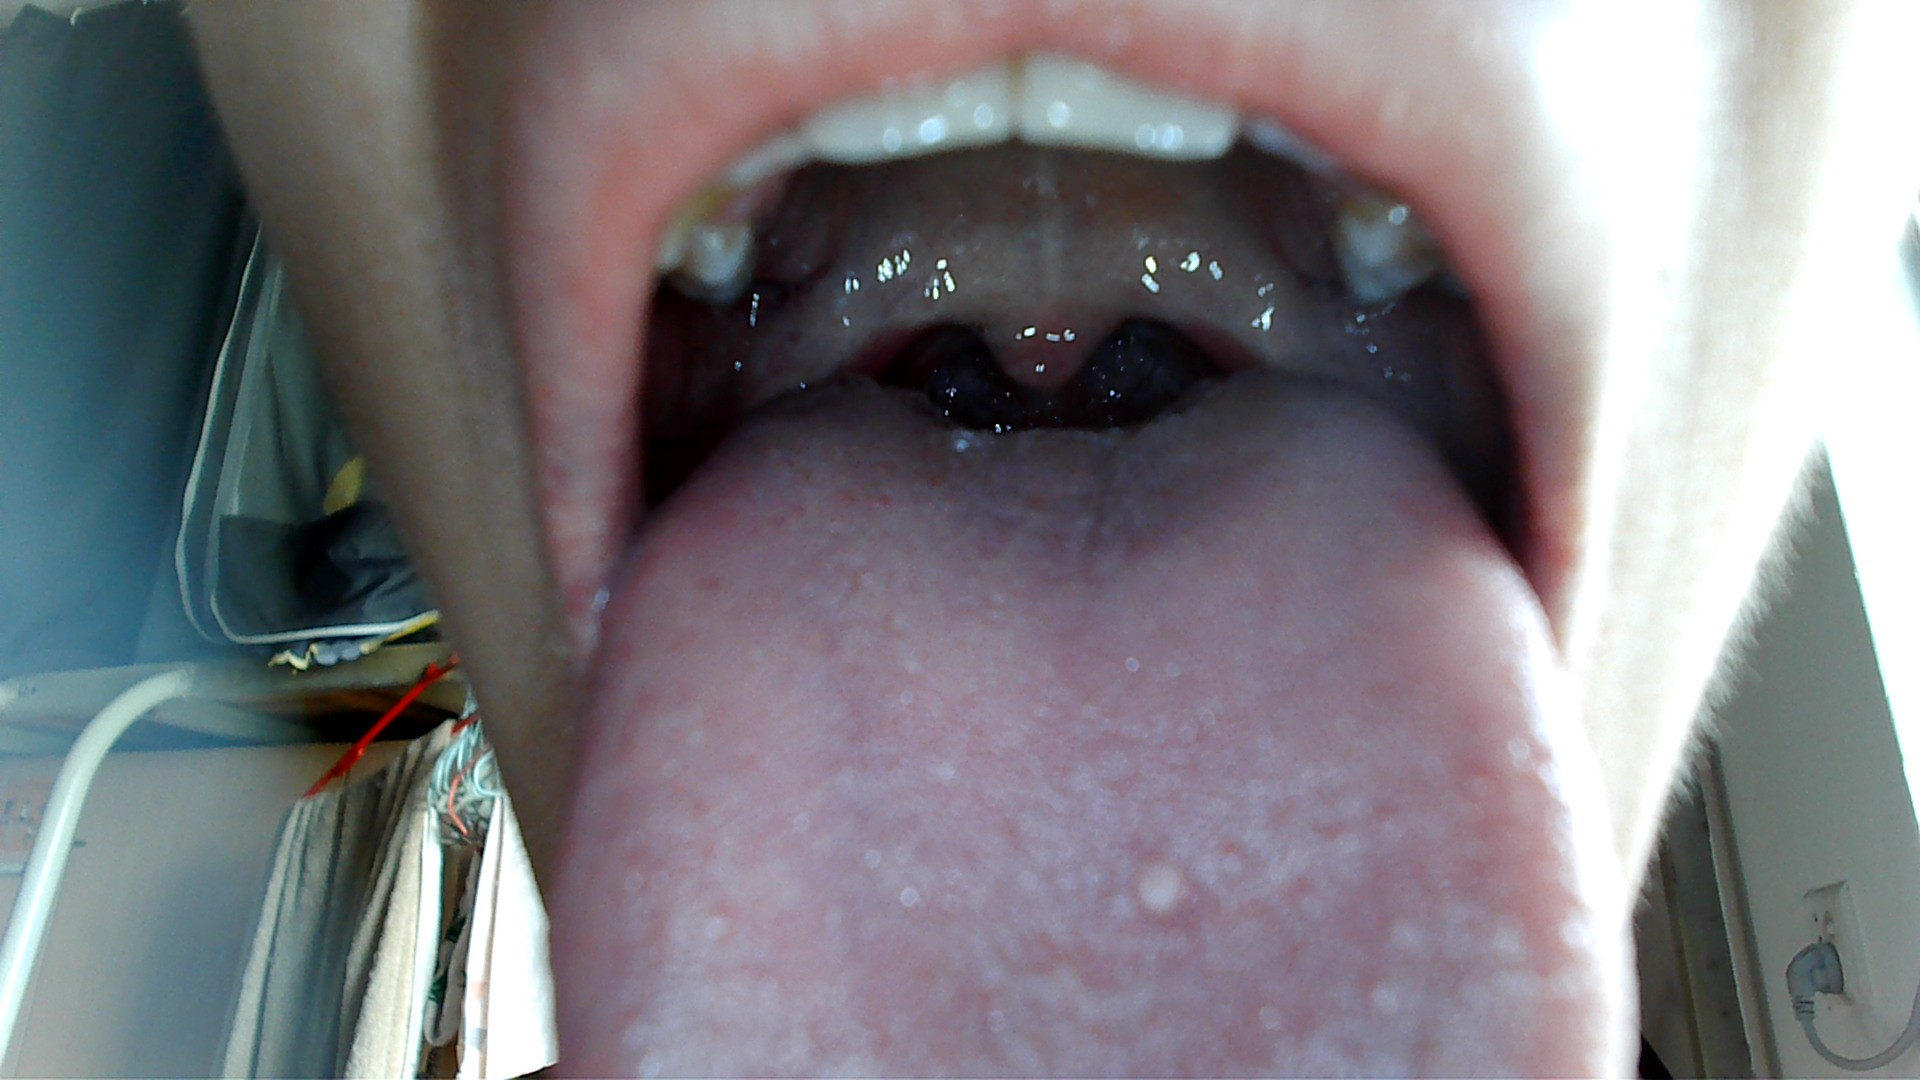throat: (1166, 244, 1327, 380), (766, 291, 926, 384)
